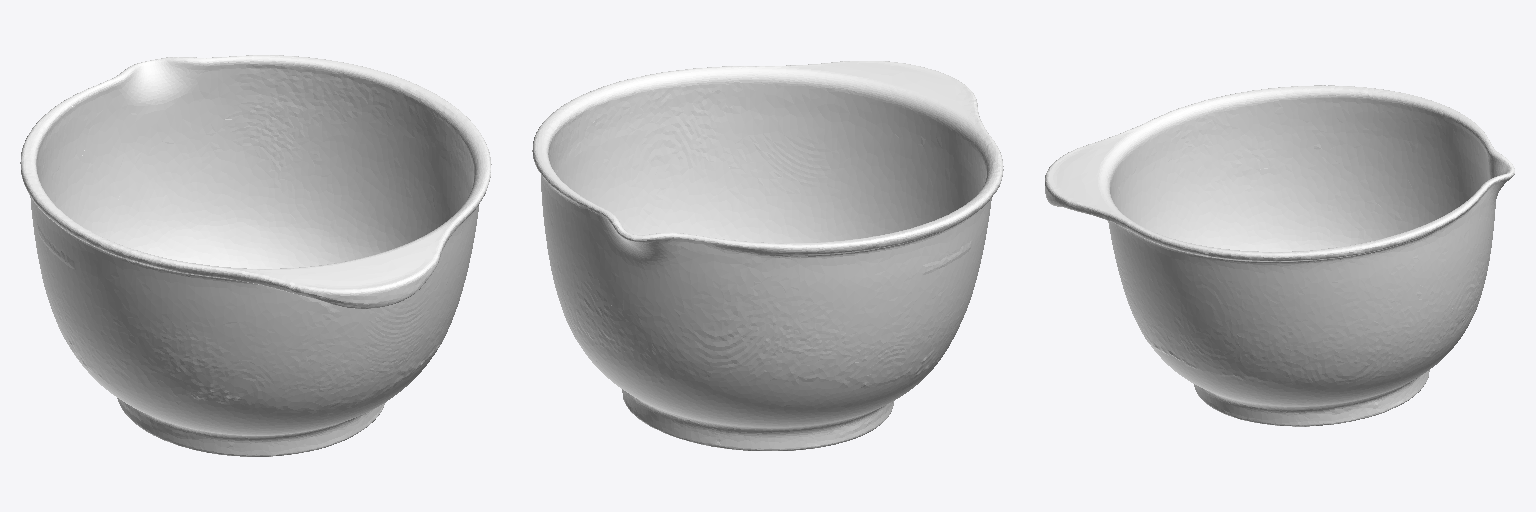
The robot description file, URDF, robot "model.urdf":
<robot name="model.urdf">
    <link name="baseLink">
        <contact>
            <lateral_friction value="0.44"/>
            <rolling_friction value="1"/>
            <spinning_friction value="1"/>
            <contact_cfm value="0.0"/>
            <contact_erp value="1.0"/>
        </contact>
        <inertial>
            <origin rpy="-0.06 3.13 0" xyz="0. 0.0 0.03"/>
            <mass value="1.1"/>
            <inertia ixx="1e-3" ixy="0" ixz="0" iyy="1e-3" iyz="0" izz="1e-3"/>
        </inertial>
        <visual>
            <origin xyz="0.0 0.0 0.0" rpy="0 0 -1.7" />
            <geometry>
                <mesh filename="nontextured.stl" scale="1 1 1"/>
            </geometry>
            <material name="white">
                <color rgba="1 1 1 1"/>
            </material>
        </visual>
        <collision>
            <origin xyz="0.0 0.0 0.0" rpy="0 0 -1.7" />
            <geometry>
                <mesh filename="nontextured.stl" scale="1 1 1"/>
            </geometry>
        </collision>
    </link>
</robot>

--- Render facts (derived) ---
3 views of the same robot in one strip: view 1: azimuth 30°, elevation 25°; view 2: azimuth 150°, elevation 25°; view 3: azimuth 270°, elevation 25° (orthographic).
Robot: model.urdf — 1 links, 0 joints (none); root link baseLink; default pose: all joints at 0.
Links seen in each view (by area): view 1: baseLink; view 2: baseLink; view 3: baseLink.
Boxes of the visible links, <box> form: baseLink: <box>20,55,491,456</box>; baseLink: <box>532,61,1003,450</box>; baseLink: <box>1045,85,1514,426</box>.
Bounding box of the posed robot: 0.2286 × 0.262 × 0.1373 m (x, y, z).
Meshes: 1 distinct files referenced, 1 mesh visuals loaded (1 binary STL).